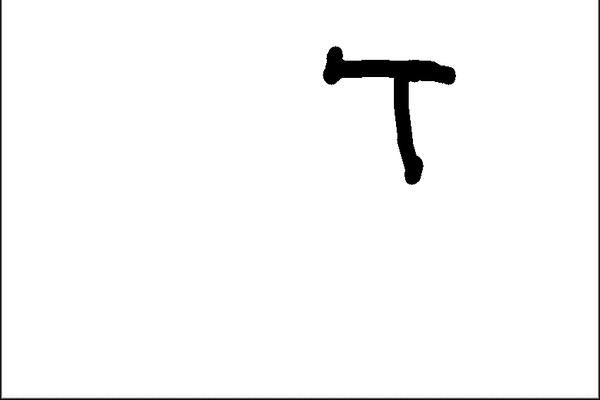T: (314, 40, 468, 189)
